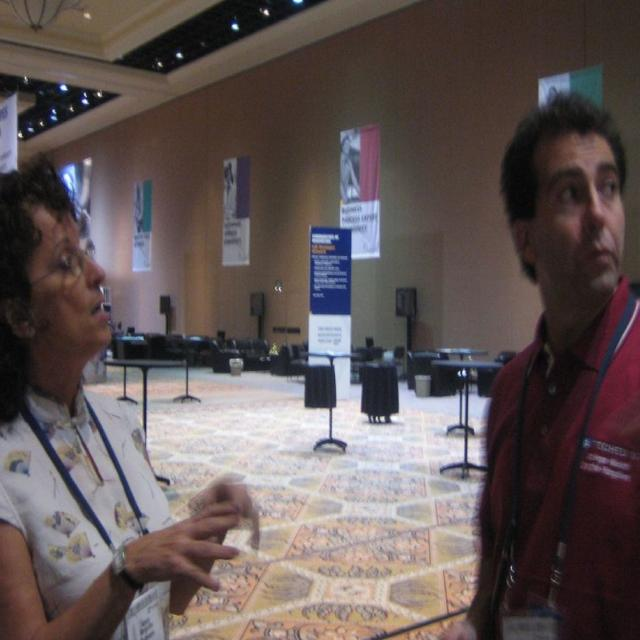Glasses: (14, 250, 105, 300)
